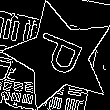P_SE: (28, 30, 91, 83)
